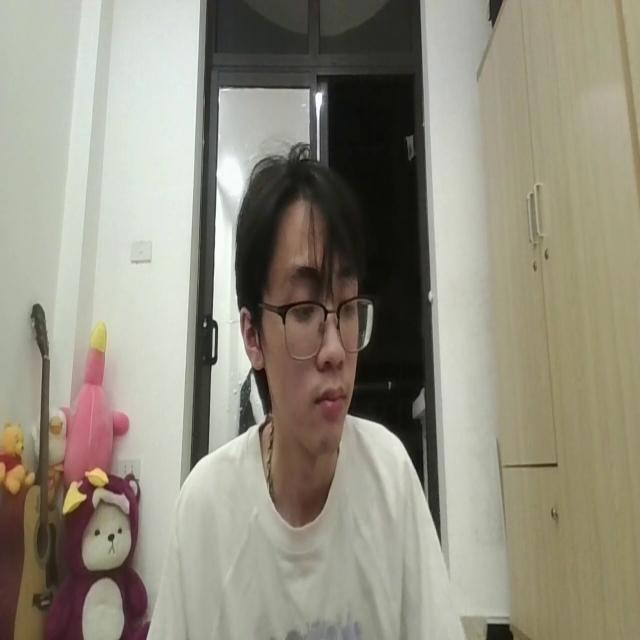student: (138, 144, 468, 640)
